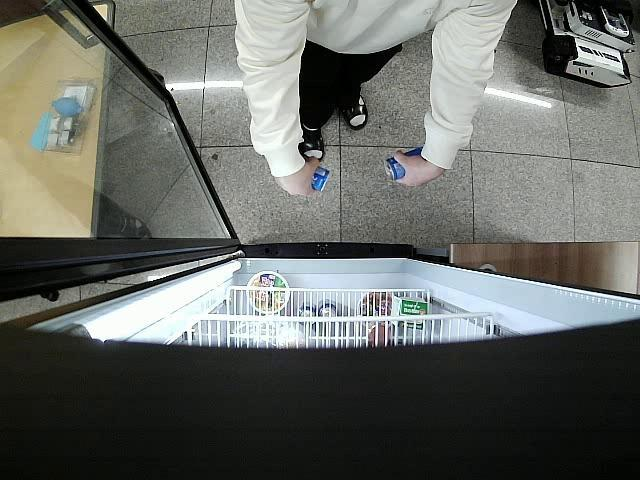15_letsbe: (384, 148, 424, 182), (300, 156, 332, 193)
